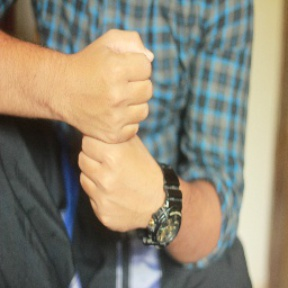G: (65, 26, 169, 225)
